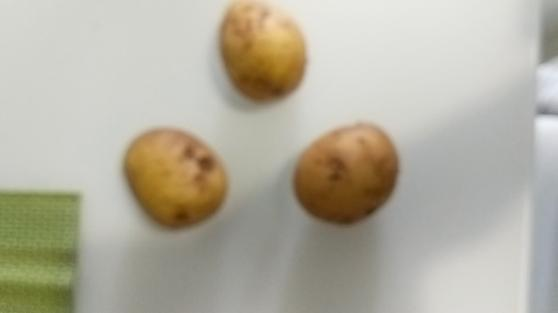potato: (288, 119, 400, 228), (121, 123, 231, 227), (209, 1, 314, 103)
